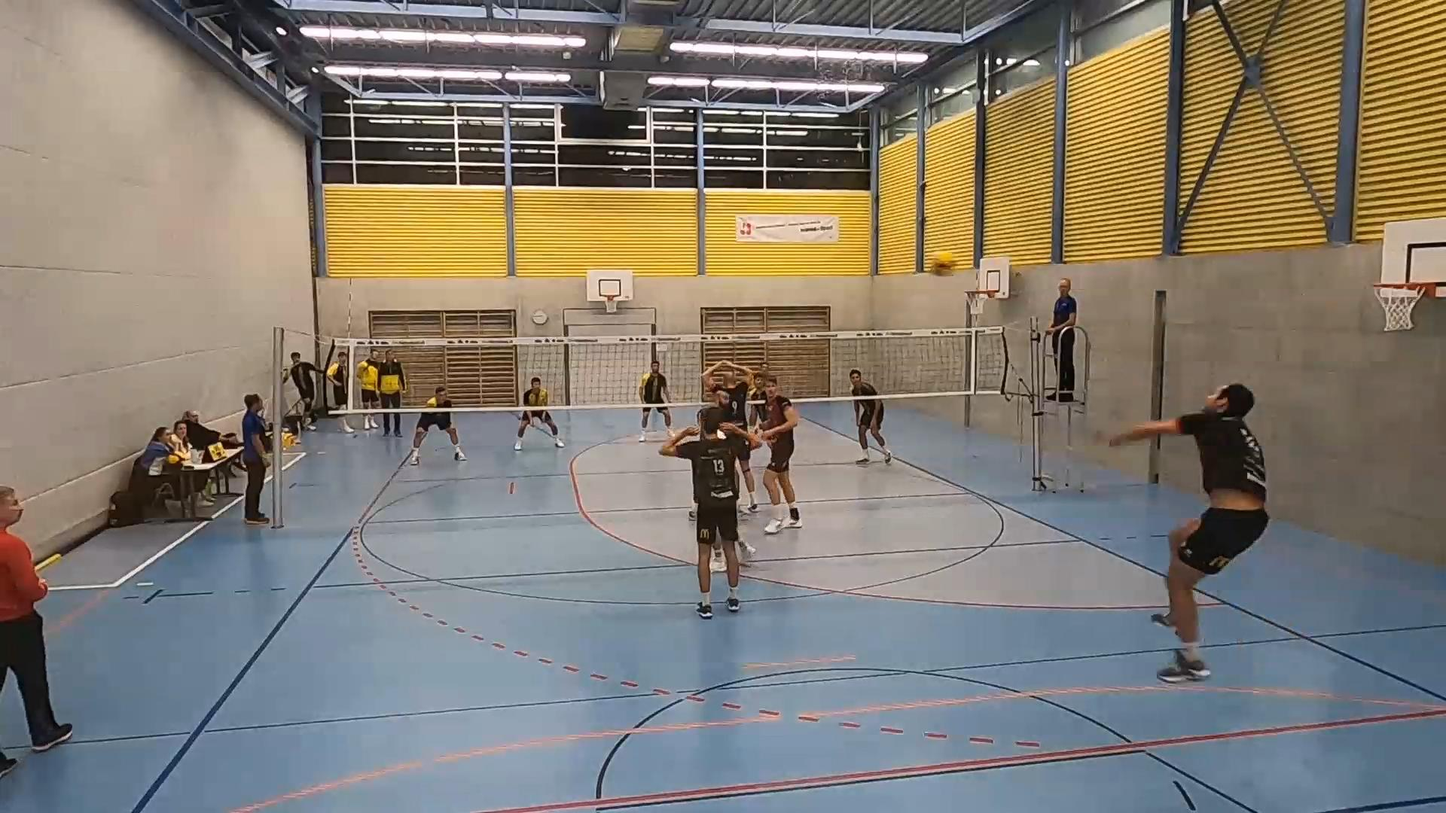battuta: (1099, 376, 1273, 680)
